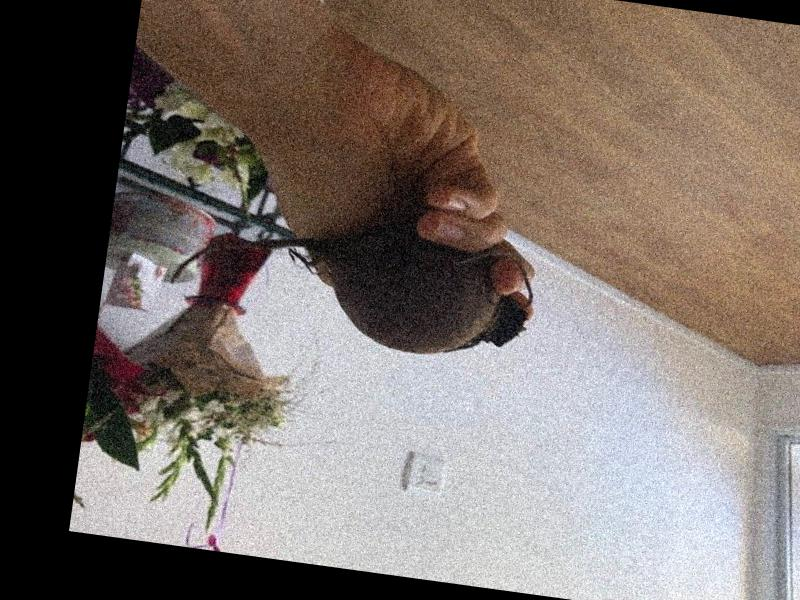Beet: (166, 196, 540, 367)
